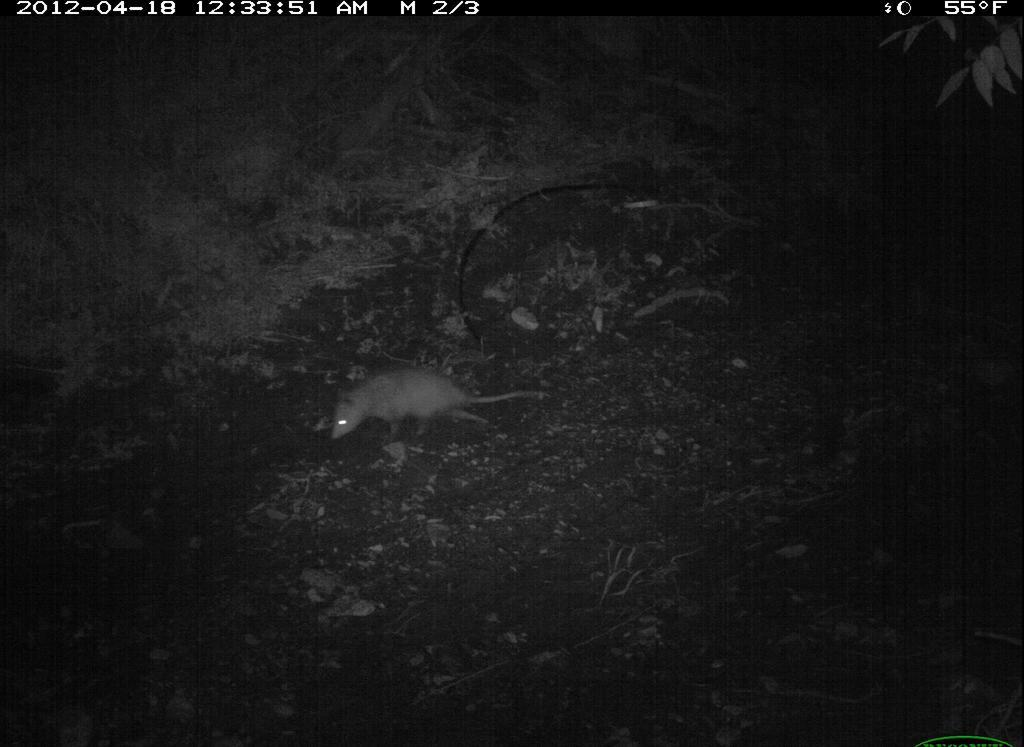opossum: (322, 361, 551, 451)
